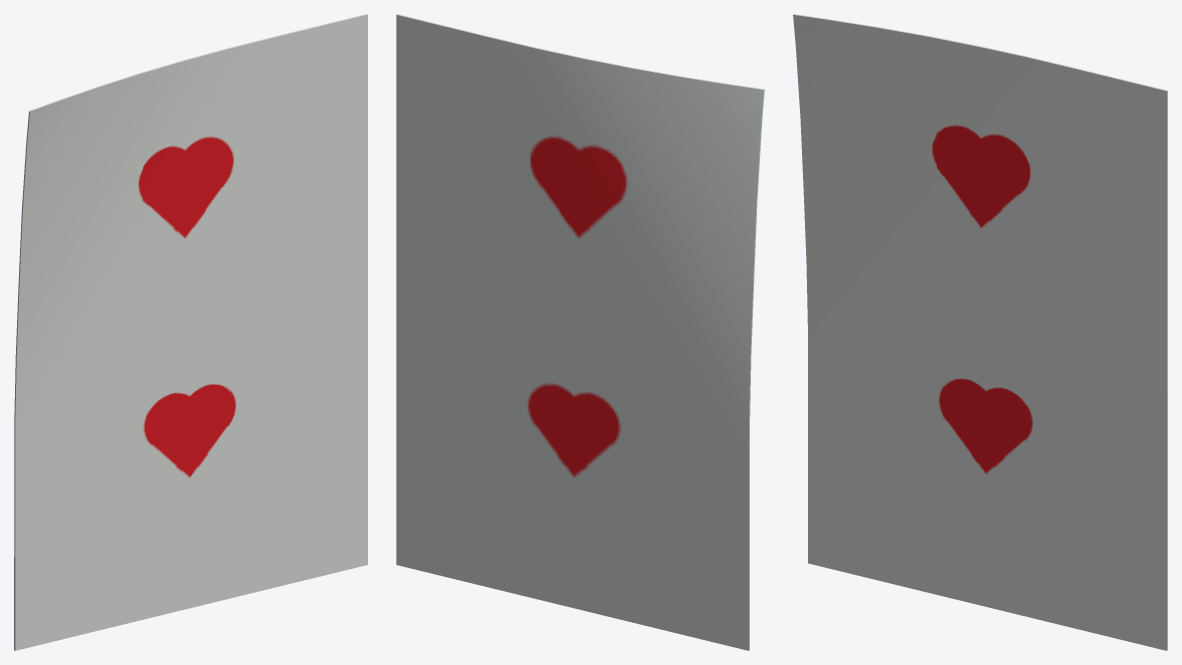
Rendered from cosa.glb.
3 renders of one model, left to right at view 1: azimuth 30°, elevation 25°; view 2: azimuth 150°, elevation 25°; view 3: azimuth 330°, elevation 25°, orthographic.
Parts seen in each view (by area): view 1: node_id5; view 2: node_id5; view 3: node_id5.
Part boxes in pixels (bbox=[...]): node_id5: bbox=[14, 14, 367, 650]; node_id5: bbox=[396, 14, 764, 650]; node_id5: bbox=[793, 14, 1167, 650].
Size of the model in its own units: 0.3434 by 0.512 by 0.0267.
Materials: 1 (1 with a texture image).
